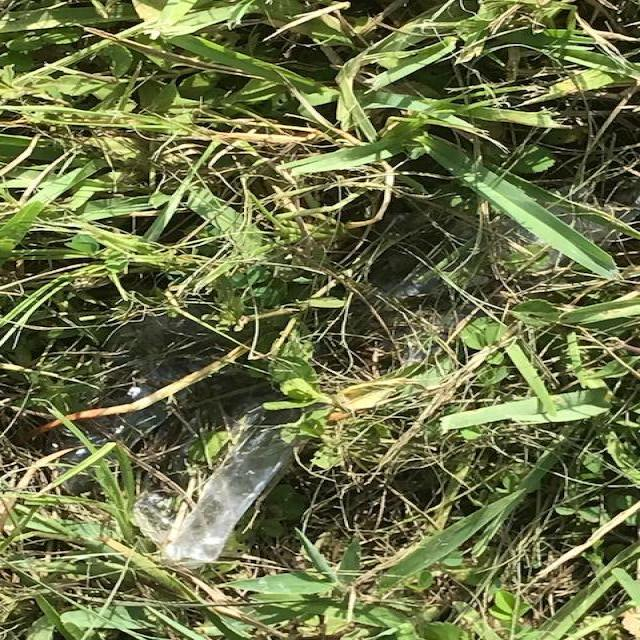litter: (528, 254, 640, 325)
